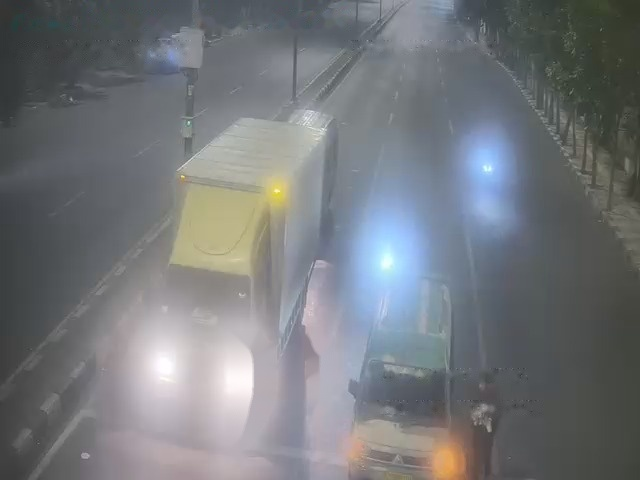Mobil: (359, 272, 452, 476)
Motor: (476, 151, 499, 184)
Truk: (164, 102, 322, 425)
